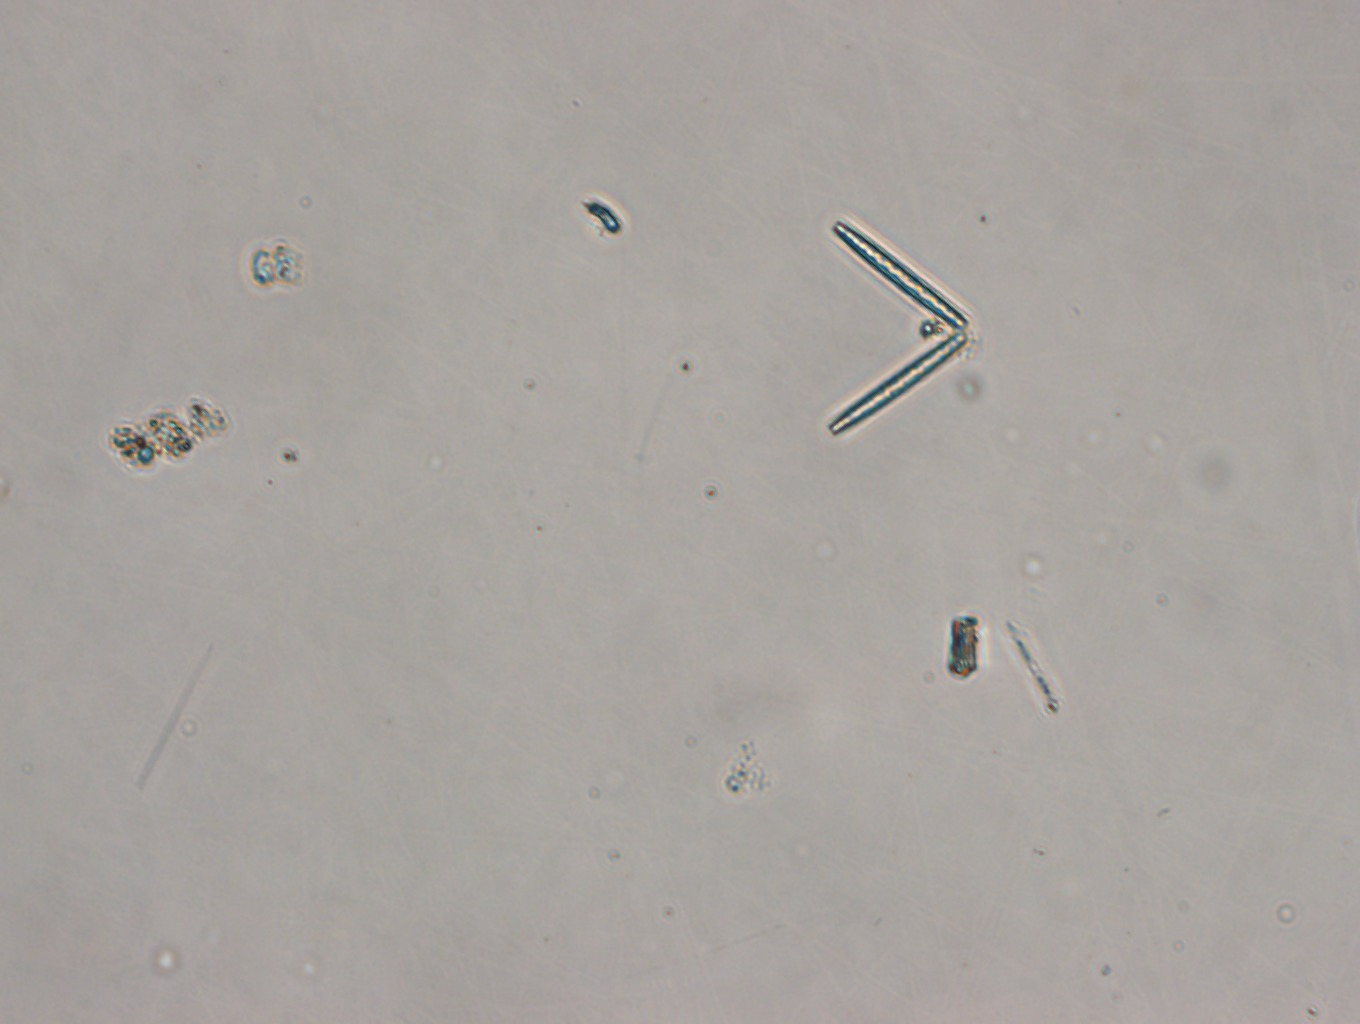thalassionema nitzschioides: (826, 219, 967, 437)
